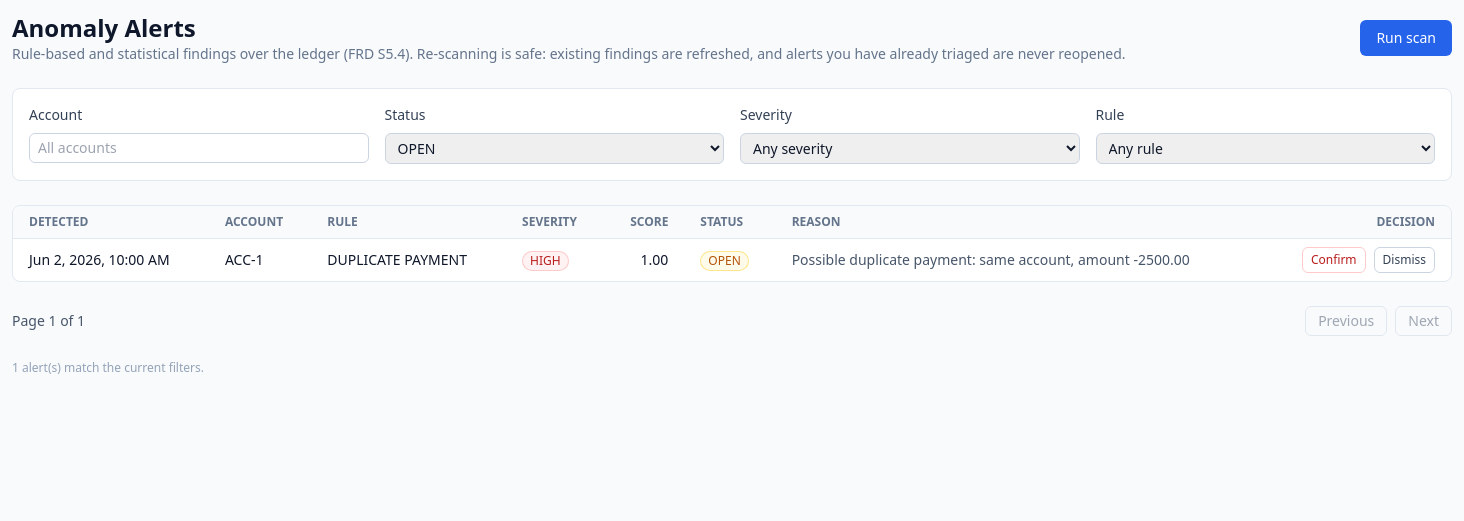
Test case: FraudAlerts page › runs a scan, shows what it changed, and reloads the queue
Check: the text "Possible duplicate payment: same account, amount -2500.00" is shown, box [776,238,1264,281]
Click the button "Run scan" at (1406, 38), box [1360,20,1452,56]
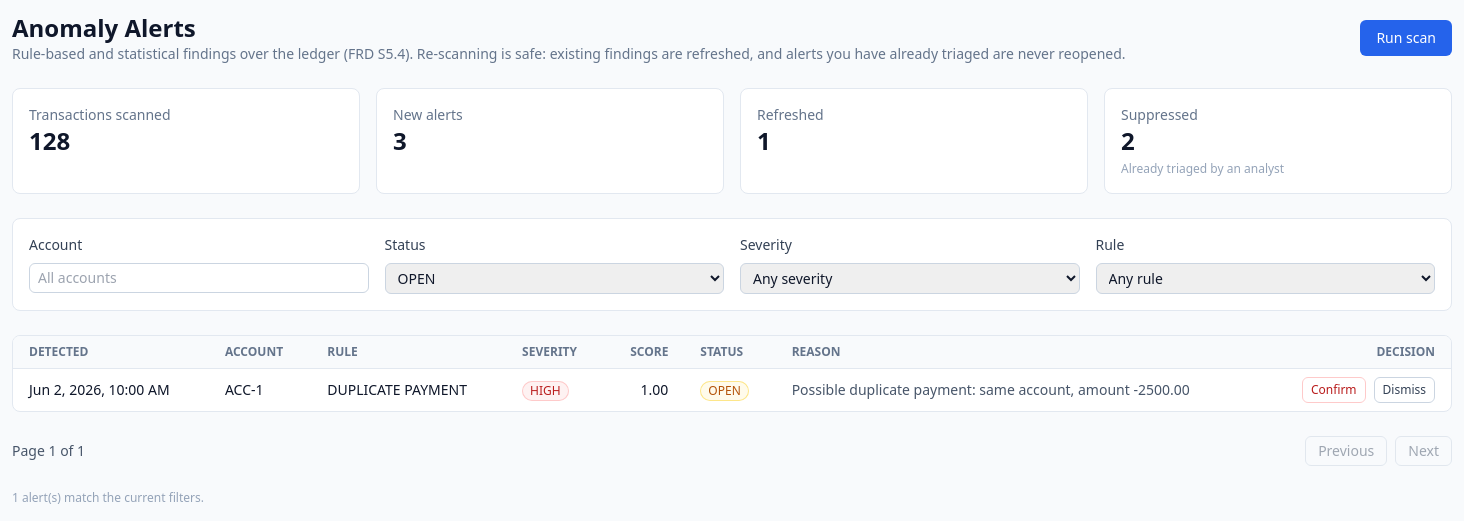
Check: the text "128" is shown, box [29,124,70,157]
Check: the text "Transactions scanned" is shown, box [29,105,171,124]
Check: the text "Suppressed" is shown, box [1121,105,1198,124]
